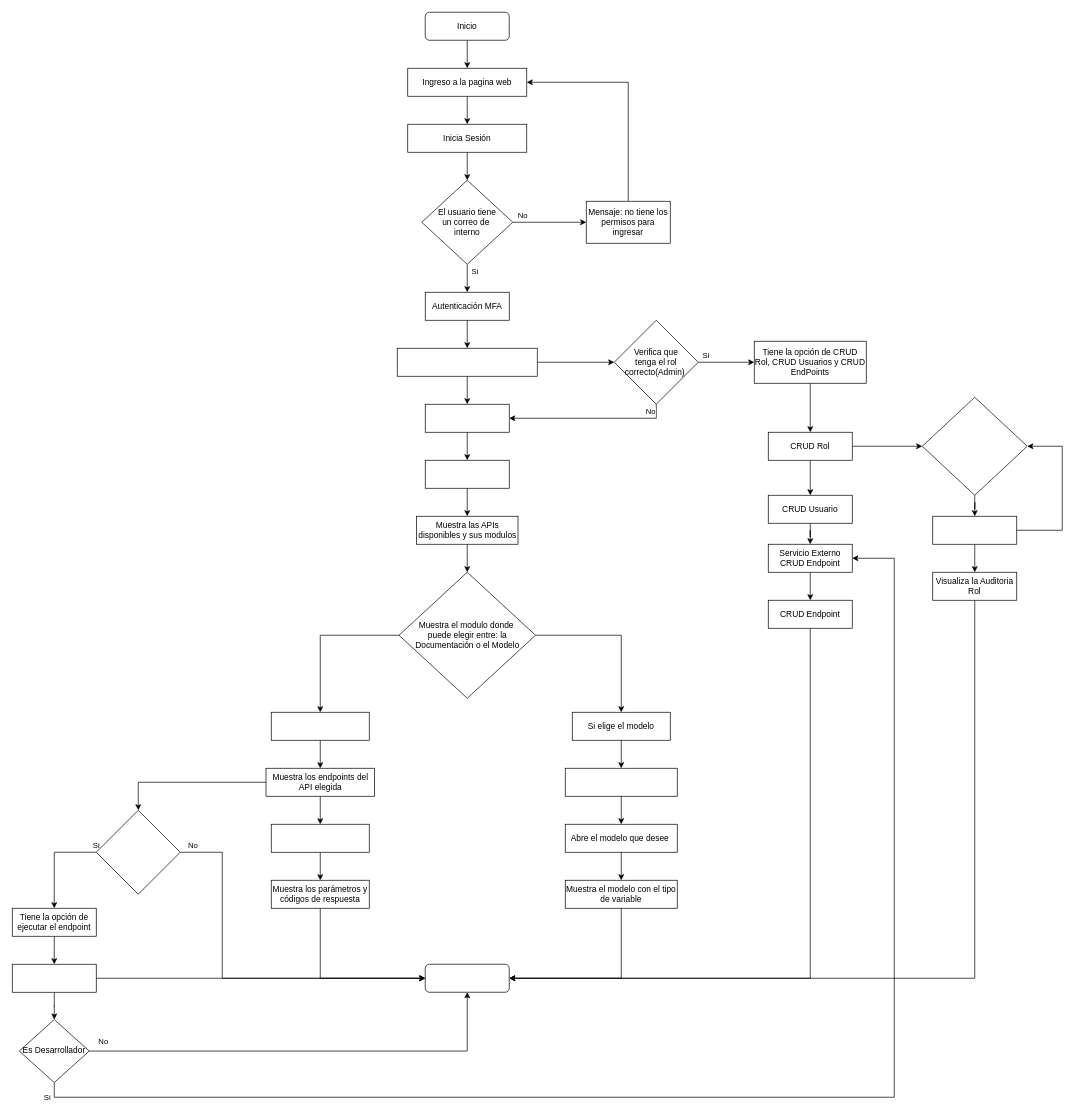
This 1080x1115 diagram has some shape labels left out. The shapes that lost their labels are listed below. From the top down, each one's centre as x and y in pixels, then its label:
At point 467,362: "Ingresa al sistema con funcionalidades disponibles".
At point 467,418: "Ingresa a la opción de APIs".
At point 974,446: "Al Agregar, Modificar y Eliminar Rol".
At point 467,474: "Verifica los permiso para las APIs".
At point 974,530: "Agrega en Auditoria Rol".
At point 320,726: "Si elige la documentación".
At point 621,782: "Muestra los modelos de la API elegida".
At point 138,852: "Verifica que tenga el rol correcto(Calidad, desarrollador)".
At point 320,838: "Abre el endpoint que desee".
At point 54,978: "Ejecuta los endpoints".
At point 467,978: "Fin".
